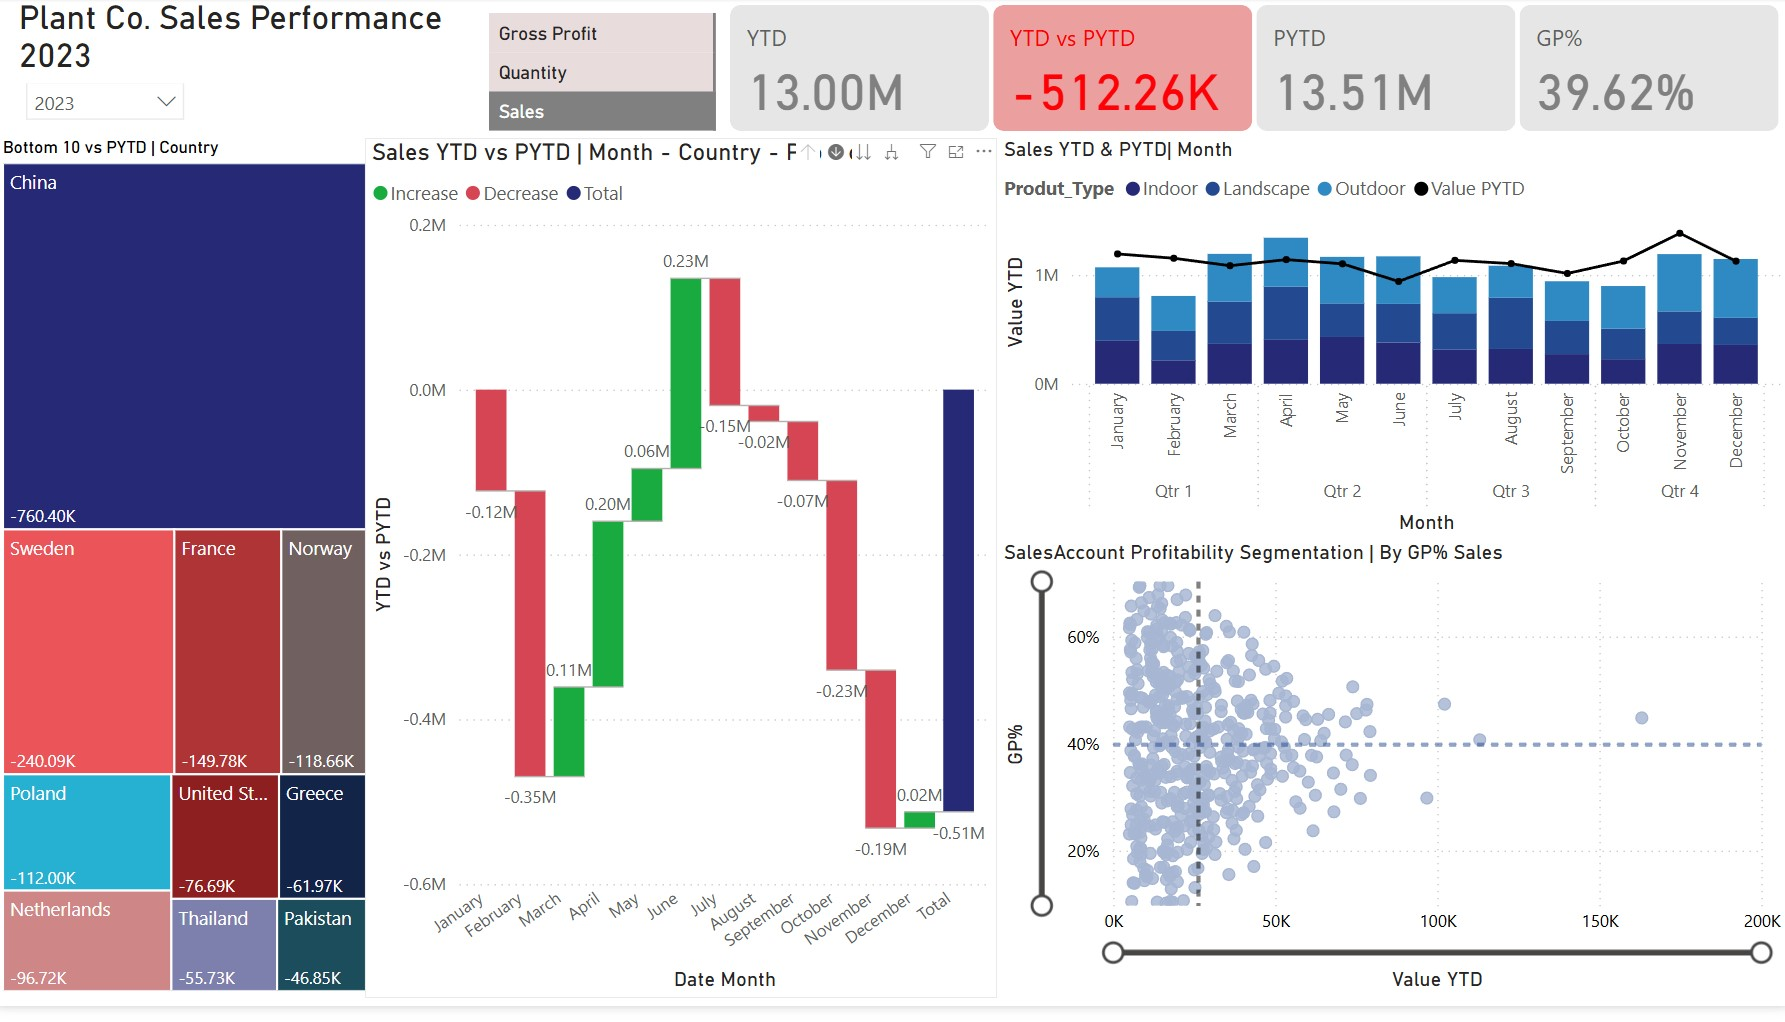

Layout of this report page (visuals, bound fields, positions):
{"tool":"powerbi","page":{"name":"Performance Report","canvas":[1280,720],"ordinal":0},"visuals":[{"type":"cardVisual","fields":{"Data":["_Measures.S_YTD","_Measures.YTD vs PYTD","_Measures.S_PYTD","_Measures.GP%"]},"box":[519.3,0,760.7,100],"z":0},{"type":"advancedSlicerVisual","fields":{"Values":["SLC_values.Values"]},"box":[347.1,5.7,172.1,94.3],"z":1000},{"type":"slicer","fields":{"Values":["Dim_Date.Date.Variation.Date Hierarchy.Year1"]},"box":[11.4,50,132.9,50],"z":2000},{"type":"treemap","title":"Bottom 10 vs PYTD | Country","fields":{"Values":["_Measures.YTD vs PYTD"],"Group":["Dim_accounts.country"]},"box":[0,100,269.3,614.3],"z":3000},{"type":"waterfallChart","fields":{"Y":["_Measures.YTD vs PYTD"],"Category":["Dim_Date.Date.Variation.Date Hierarchy.Month","Dim_accounts.country","Dim_products.Produt_Type","Dim_products.Product_Name"]},"box":[263.6,100,451.4,614.3],"z":4000},{"type":"lineStackedColumnComboChart","fields":{"Y":["_Measures.S_YTD"],"Y2":["_Measures.S_PYTD"],"Category":["Dim_Date.Date.Variation.Date Hierarchy.Quarter","Dim_Date.Date.Variation.Date Hierarchy.Month"],"Series":["Dim_products.Produt_Type"]},"box":[715,100,565,287.9],"z":5000},{"type":"scatterChart","fields":{"Y":["_Measures.GP%"],"X":["_Measures.S_YTD"],"Category":["Dim_accounts.Account"]},"box":[715,387.9,565,326.4],"z":5001},{"type":"clusteredColumnChart","box":[11.4,0,335.7,60.7],"z":5002}]}

Visuals, with their boxes in screenshot pixels (x1, y1, x2, y2), scaled from the page's 1280x720 canvas onto the 1785x1022 screenshot:
cardVisual - _Measures.S_YTD x _Measures.YTD vs PYTD: (x1=724, y1=0, x2=1784, y2=142)
advancedSlicerVisual - SLC_values.Values: (x1=484, y1=8, x2=724, y2=142)
slicer - Dim_Date.Date.Variation.Date Hierarchy.Year1: (x1=16, y1=71, x2=201, y2=142)
"Bottom 10 vs PYTD | Country" treemap: (x1=0, y1=142, x2=376, y2=1014)
waterfallChart - _Measures.YTD vs PYTD x Dim_Date.Date.Variation.Date Hierarchy.Month: (x1=368, y1=142, x2=997, y2=1014)
lineStackedColumnComboChart - _Measures.S_YTD x _Measures.S_PYTD: (x1=997, y1=142, x2=1784, y2=551)
scatterChart - _Measures.GP% x _Measures.S_YTD: (x1=997, y1=551, x2=1784, y2=1014)
clusteredColumnChart: (x1=16, y1=0, x2=484, y2=86)
